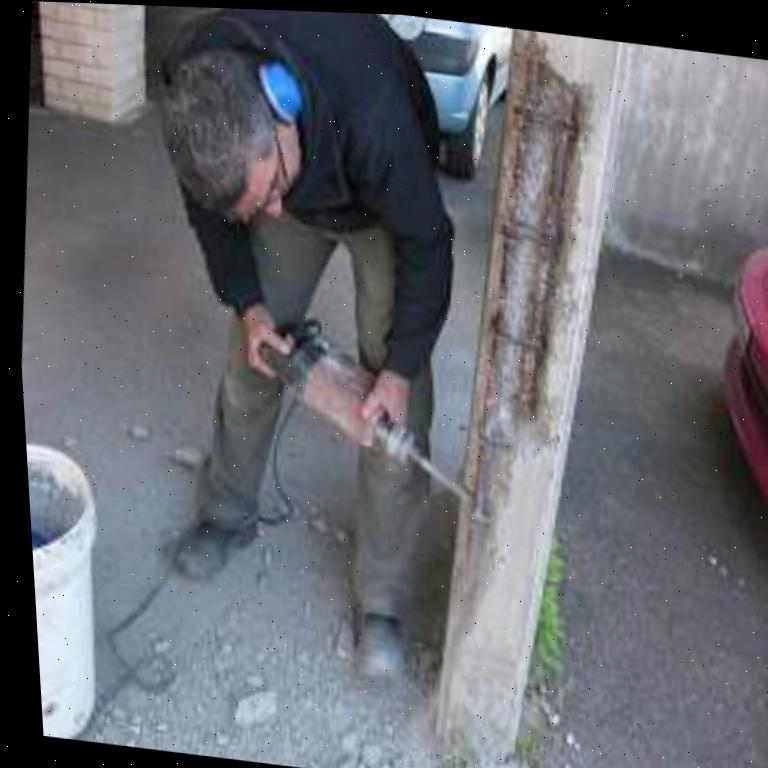spalling: (469, 29, 578, 520)
